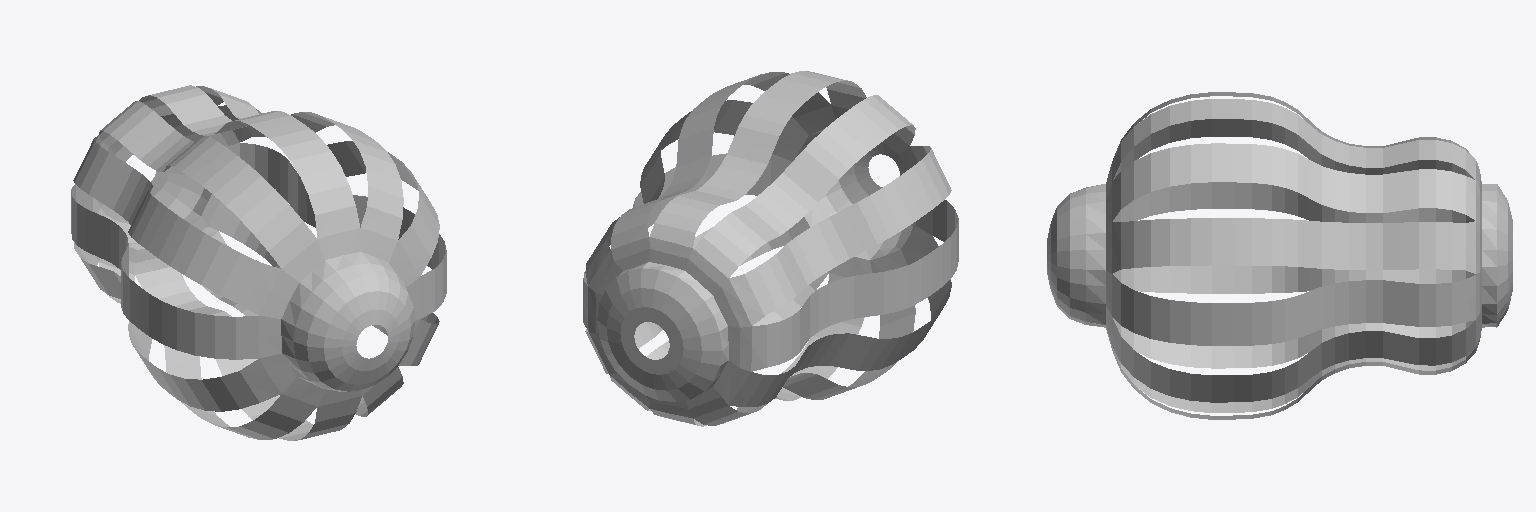
The model's file is lamp.obj.
3 renders of one model, left to right at view 1: azimuth 30°, elevation 25°; view 2: azimuth 150°, elevation 25°; view 3: azimuth 270°, elevation 25°, orthographic.
Visible parts, largest first — view 1: Plane; view 2: Plane; view 3: Plane.
Part boxes in pixels (x1,y1,x2,y2): Plane: (71, 85, 446, 440); Plane: (583, 71, 958, 426); Plane: (1047, 92, 1512, 419).
Size of the model in its own units: 5.71 by 5.71 by 8.18.